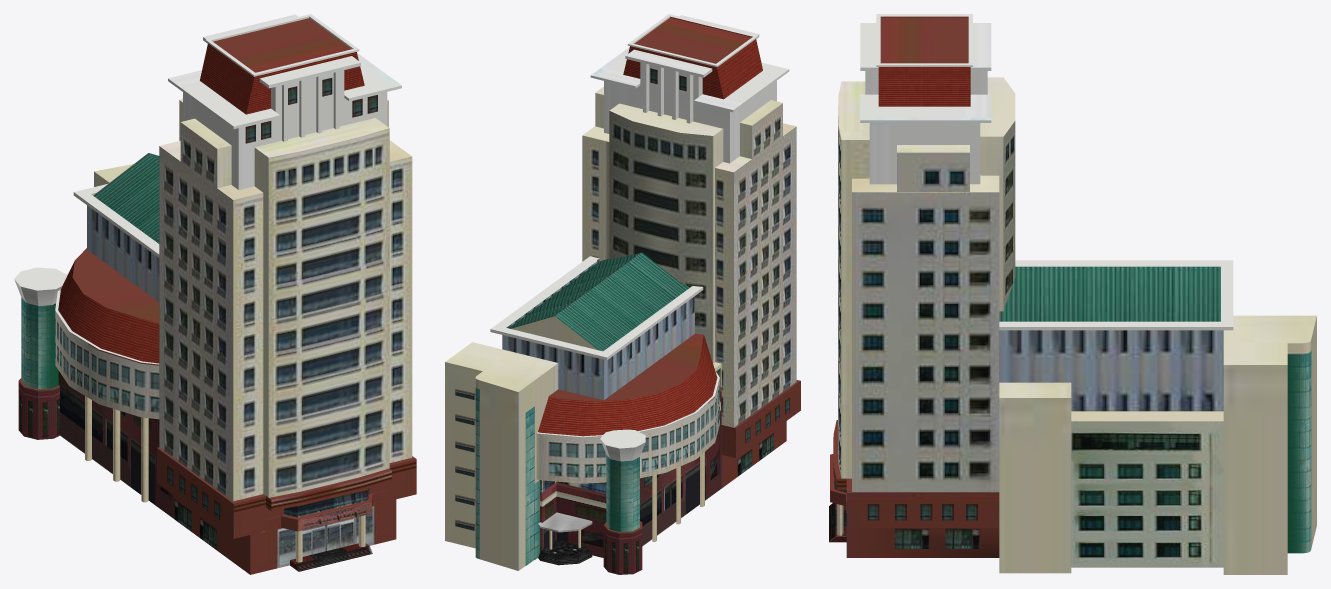
The picture shows the model from 3 angles, left to right: view 1: azimuth 30°, elevation 25°; view 2: azimuth 150°, elevation 25°; view 3: azimuth 270°, elevation 25°; orthographic projection. The views are drawn at different scales.
Parts seen in each view (by area): view 1: 5b977df89cc46f48b8df6e1e.001; view 2: 5b977df89cc46f48b8df6e1e.001; view 3: 5b977df89cc46f48b8df6e1e.001.
Part boxes in pixels (x1=…): 5b977df89cc46f48b8df6e1e.001: x1=14, y1=14, x2=416, y2=574; 5b977df89cc46f48b8df6e1e.001: x1=445, y1=14, x2=800, y2=574; 5b977df89cc46f48b8df6e1e.001: x1=829, y1=14, x2=1316, y2=574.
Size of the model in its own units: 27.38 by 58.04 by 53.21.
Materials: 1 (1 with a texture image).
